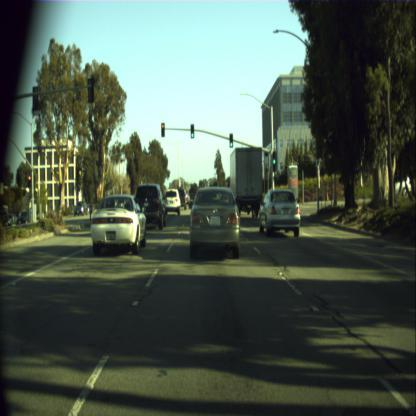Green: (272, 152, 276, 171), (190, 124, 194, 138), (229, 132, 233, 146)
Red: (160, 122, 164, 137), (27, 174, 31, 186)
